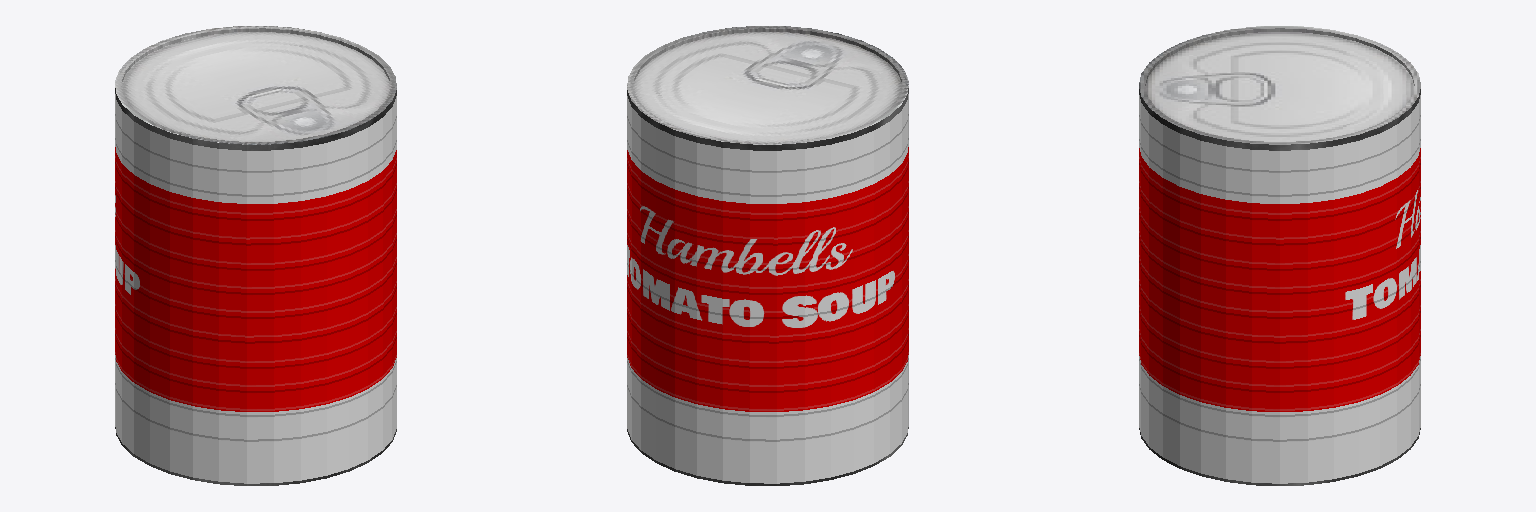
3 views of the same model, side by side, from view 1: azimuth 30°, elevation 25°; view 2: azimuth 150°, elevation 25°; view 3: azimuth 270°, elevation 25° (orthographic).
Parts seen in each view (by area): view 1: Can_Cylinder; view 2: Can_Cylinder; view 3: Can_Cylinder.
Part boxes in pixels (x1,y1,x2,y2): Can_Cylinder: (115, 26, 396, 485); Can_Cylinder: (627, 26, 908, 485); Can_Cylinder: (1139, 26, 1420, 485).
Size of the model in its own units: 0.0762 by 0.1016 by 0.0762.
Materials: 1 (1 with a texture image).